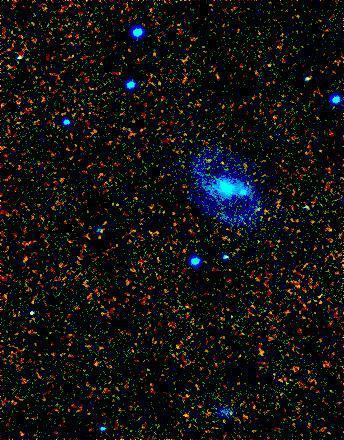star: (231, 177, 261, 207)
